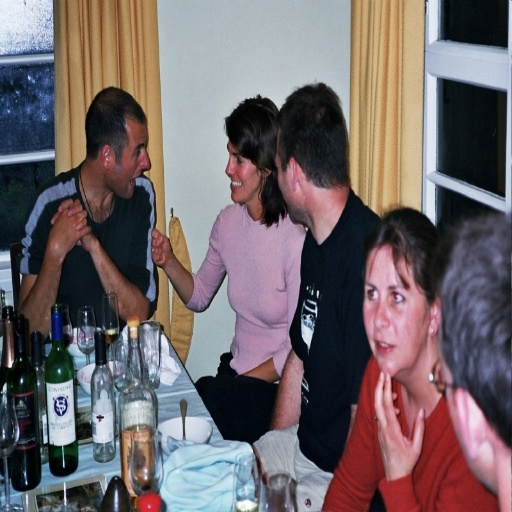hand: (371, 365, 426, 479), (143, 218, 189, 276), (48, 197, 92, 257), (49, 194, 96, 250)
